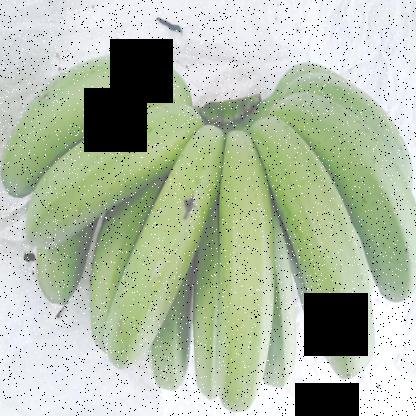freshunripe: (208, 117, 279, 415)
unripe: (94, 121, 224, 375), (258, 97, 372, 384), (16, 91, 212, 252), (298, 92, 415, 308), (0, 43, 171, 188)
